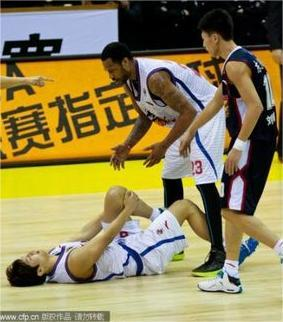bending: (104, 39, 225, 277)
down: (1, 181, 221, 288)
up: (179, 18, 283, 299)
